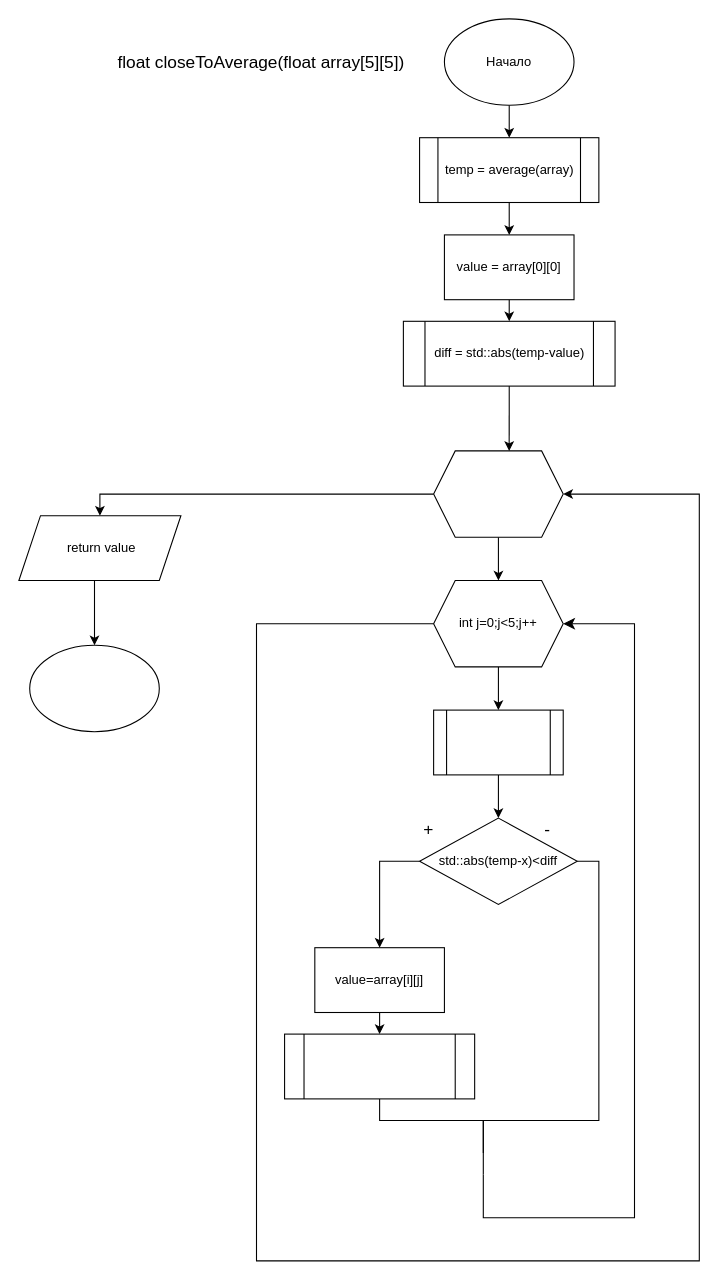
The diagram is 727 pixels wide and 1288 high, and some of its shapes have lost their labels. Each missing label, with the box of its shape:
diff=std::abs(temp-value): (284, 1033, 475, 1099)
int i=0;i<5;i++: (433, 450, 563, 537)
x = array[i][j]: (433, 709, 563, 775)
Конец: (29, 644, 159, 732)
